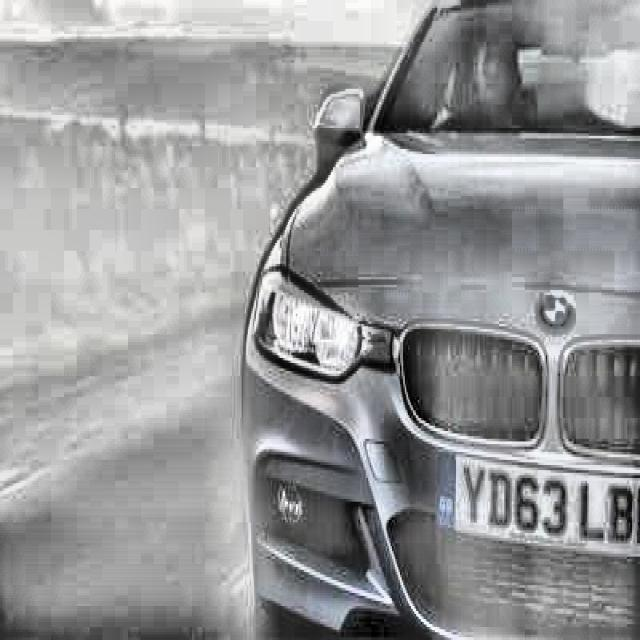license_plate: (435, 452, 640, 567)
